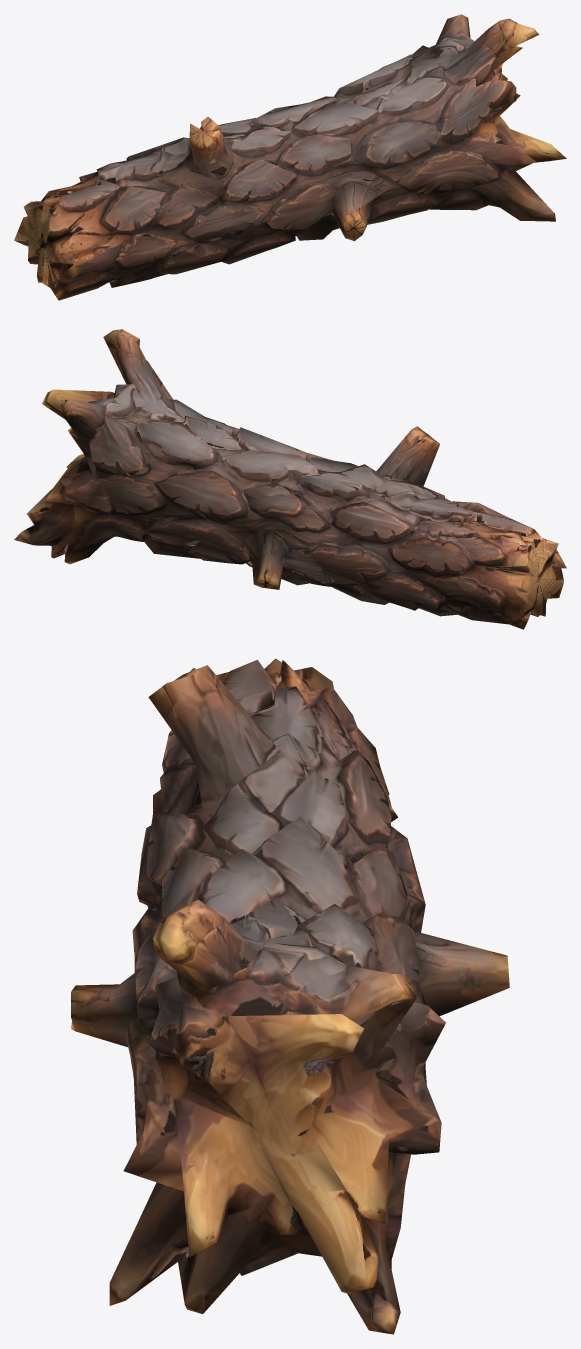
The model's file is LL_FallenLog.fbx.
3 views of the same model, one above another, from view 1: azimuth 30°, elevation 25°; view 2: azimuth 150°, elevation 25°; view 3: azimuth 270°, elevation 25° (orthographic). The views are drawn at different scales.
Parts seen in each view (by area): view 1: tripo_node_28e1fb47; view 2: tripo_node_28e1fb47; view 3: tripo_node_28e1fb47.
Part boxes in pixels (x1,y1,x2,y2): tripo_node_28e1fb47: [14, 14, 566, 300]; tripo_node_28e1fb47: [14, 329, 566, 629]; tripo_node_28e1fb47: [71, 658, 509, 1334].
Bounding box in the file's own units: 97.87 × 36.96 × 37.35.
Materials: 1 (1 with a texture image).
